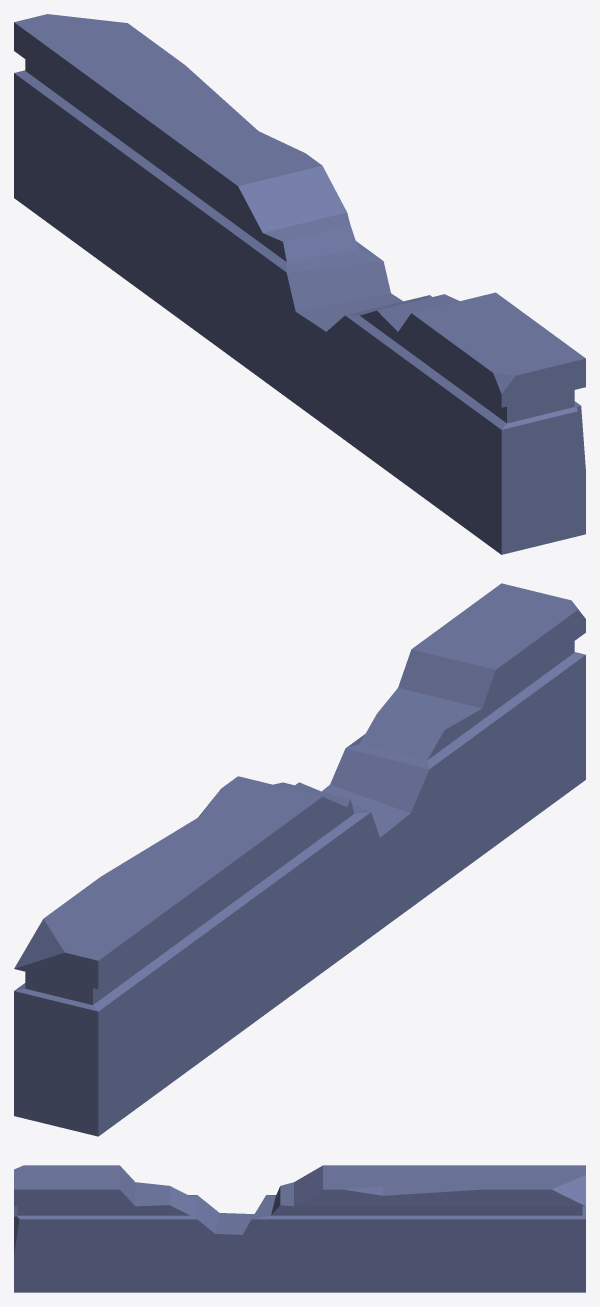
File: wall_2_dstr.fbx
3 views of the same model, one above another, from view 1: azimuth 30°, elevation 25°; view 2: azimuth 150°, elevation 25°; view 3: azimuth 270°, elevation 25° (orthographic). The views are drawn at different scales.
Parts seen in each view (by area): view 1: wall_2_dstr; view 2: wall_2_dstr; view 3: wall_2_dstr.
Boxes of the visible parts, left/top/right/bottom form: wall_2_dstr: left=14, top=14, right=585, bottom=554; wall_2_dstr: left=14, top=583, right=585, bottom=1136; wall_2_dstr: left=14, top=1165, right=585, bottom=1292.
Size of the model in its own units: 1 by 1.99 by 10.
